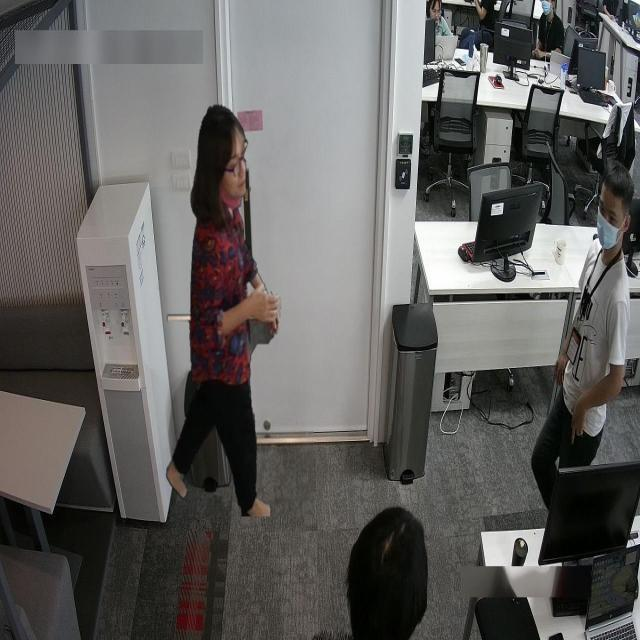hairnet: (218, 138, 248, 212)
